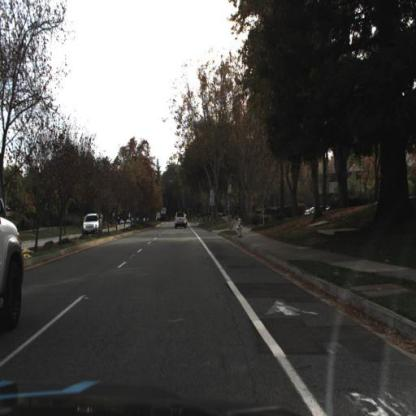biker: (223, 201, 240, 237)
car: (1, 191, 27, 355), (81, 214, 106, 236), (173, 209, 189, 231)
